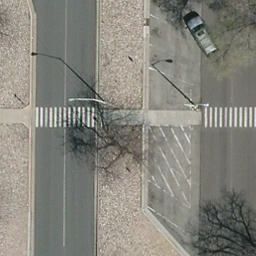car: (184, 15, 225, 59)
